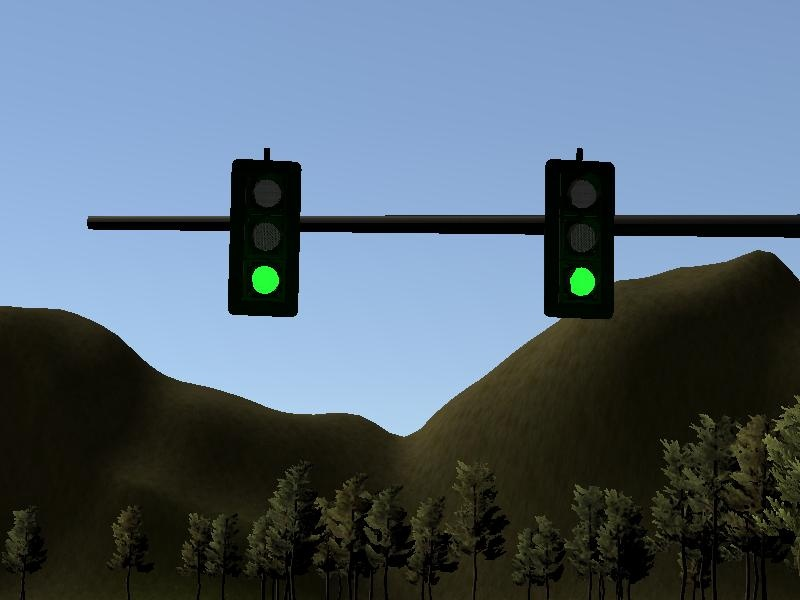green: (543, 160, 615, 320), (230, 160, 302, 318)
